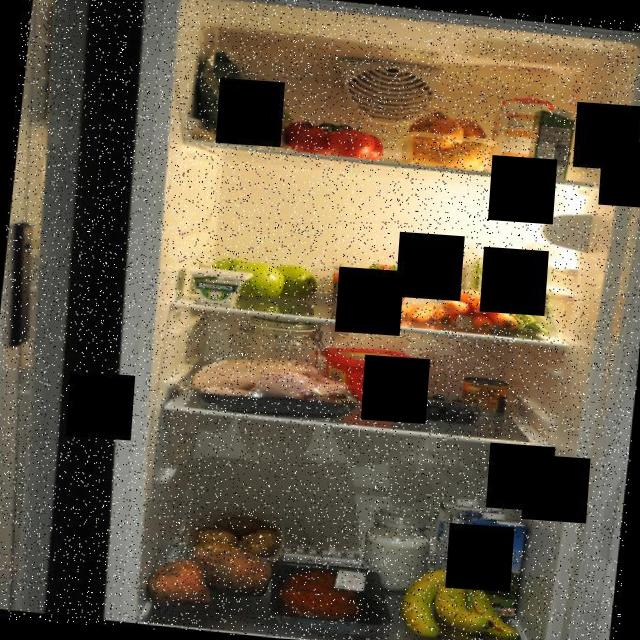Carne pollo: (179, 342, 367, 425)
Carne vacuno: (276, 568, 367, 622)
Cebolla: (402, 103, 501, 175)
Leche: (452, 506, 532, 624), (427, 492, 501, 592)
Mantequilla: (316, 344, 428, 409)
Manzana: (204, 253, 322, 304)
Patata: (180, 508, 286, 558)
Plátano: (399, 555, 523, 640)
Queso: (188, 264, 252, 308)
Tomate: (280, 112, 390, 164)
Zanahoria: (434, 284, 528, 336), (364, 296, 436, 326)
blueberries: (389, 386, 484, 425)
corn: (455, 376, 509, 421)
flour: (235, 308, 332, 388)
green_beans: (445, 238, 558, 342)
heavy_cream: (528, 108, 578, 181)
spinach: (184, 27, 316, 156)
strawberries: (328, 257, 406, 314)
sugar: (358, 502, 432, 592), (487, 94, 553, 180)
sweet_potato: (147, 540, 276, 624)
